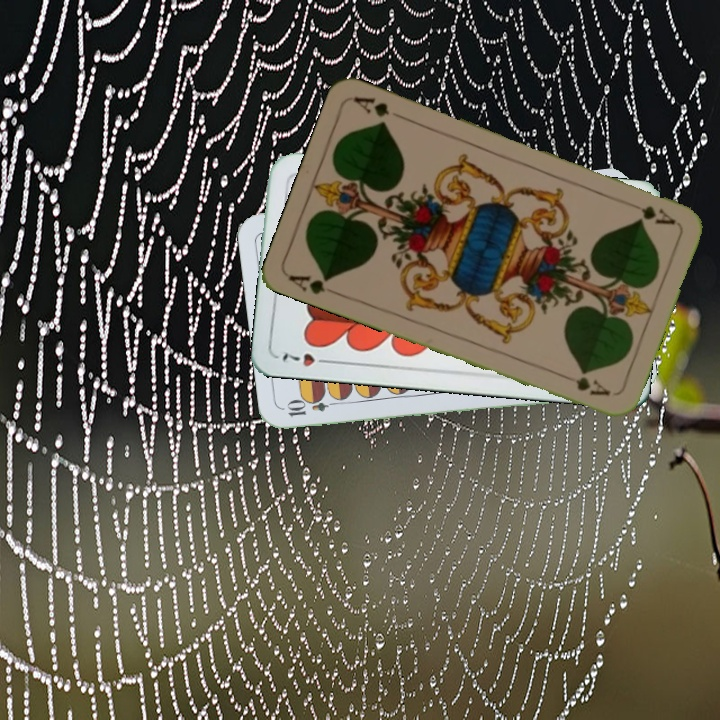E10: (283, 395, 342, 419)
GA: (623, 197, 678, 228), (285, 270, 342, 299)
H7: (278, 349, 335, 369)
